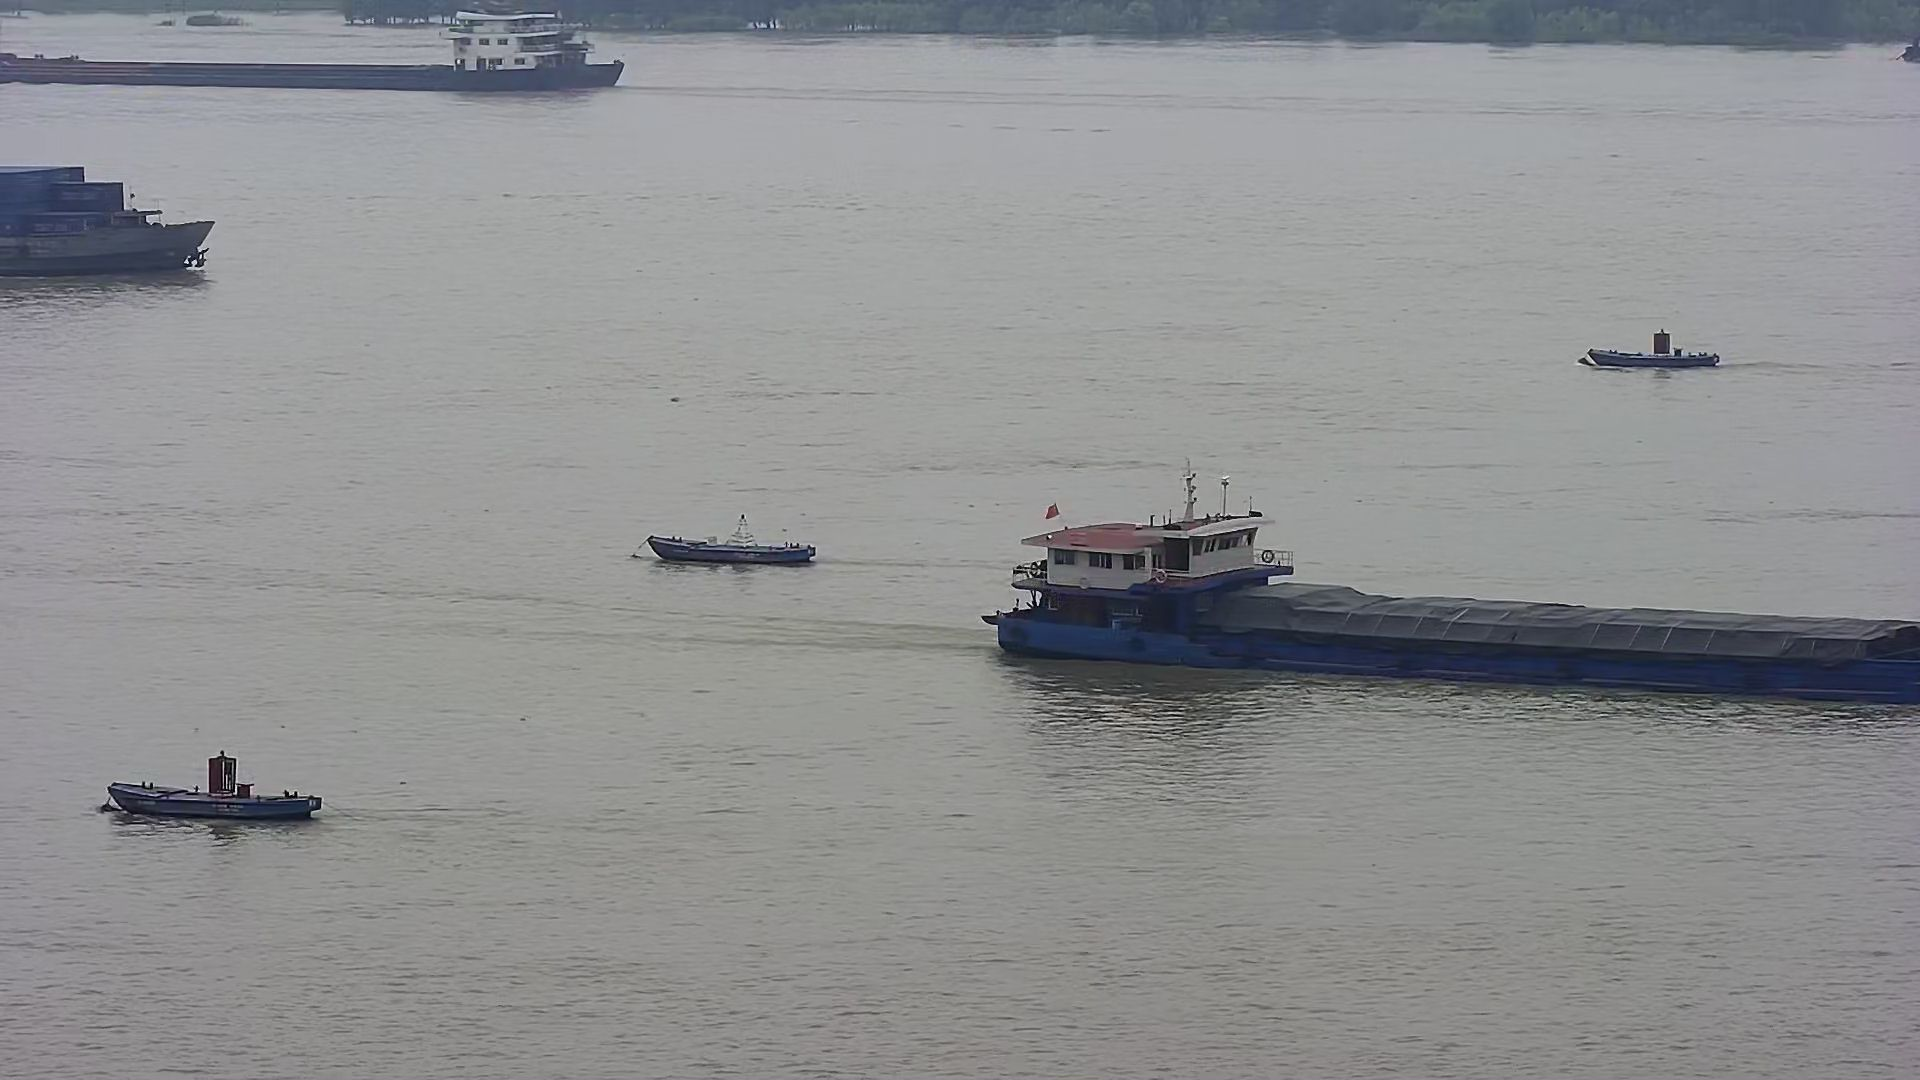boat: (98, 749, 324, 822), (630, 508, 818, 568), (1564, 328, 1727, 373)
ship: (982, 469, 1920, 716), (1, 11, 626, 94), (1, 160, 218, 273)
